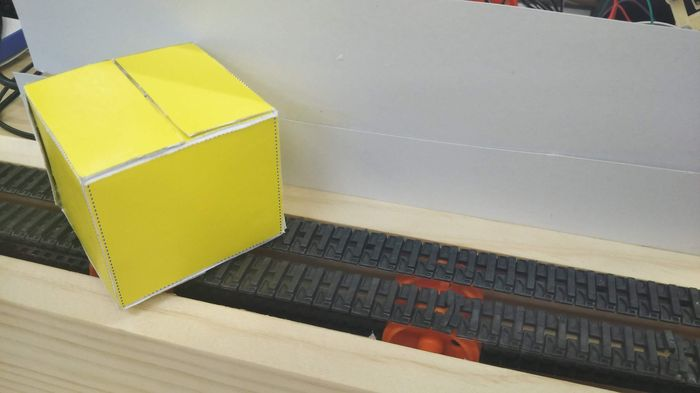box4: (11, 36, 289, 311)
